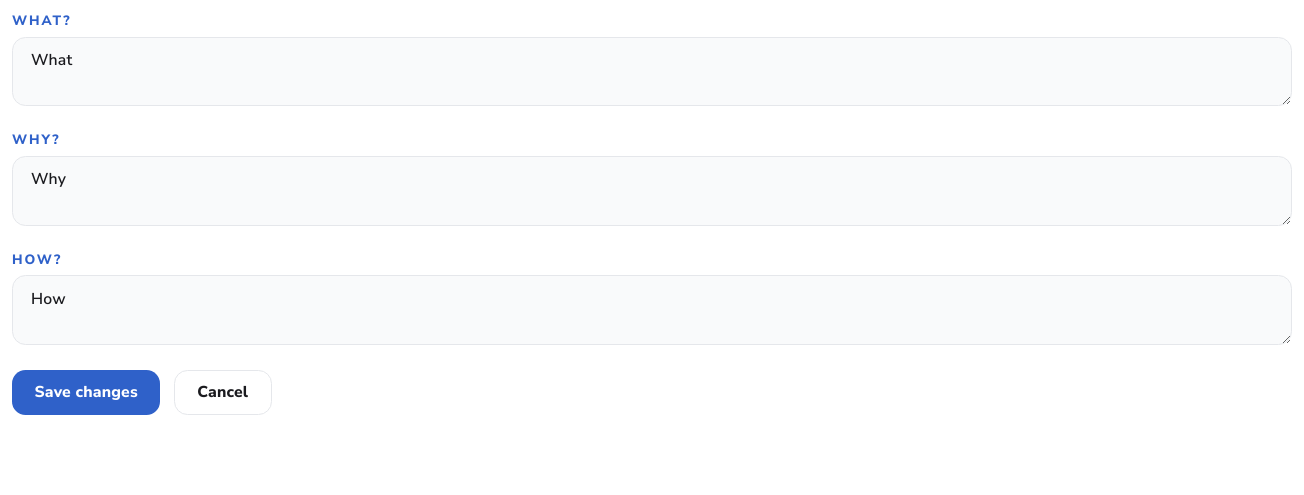
Scenario: NotebookEntryEditForm › shows error message when saving fails
Click the button "Save changes" at (86, 392), box [12,370,160,415]
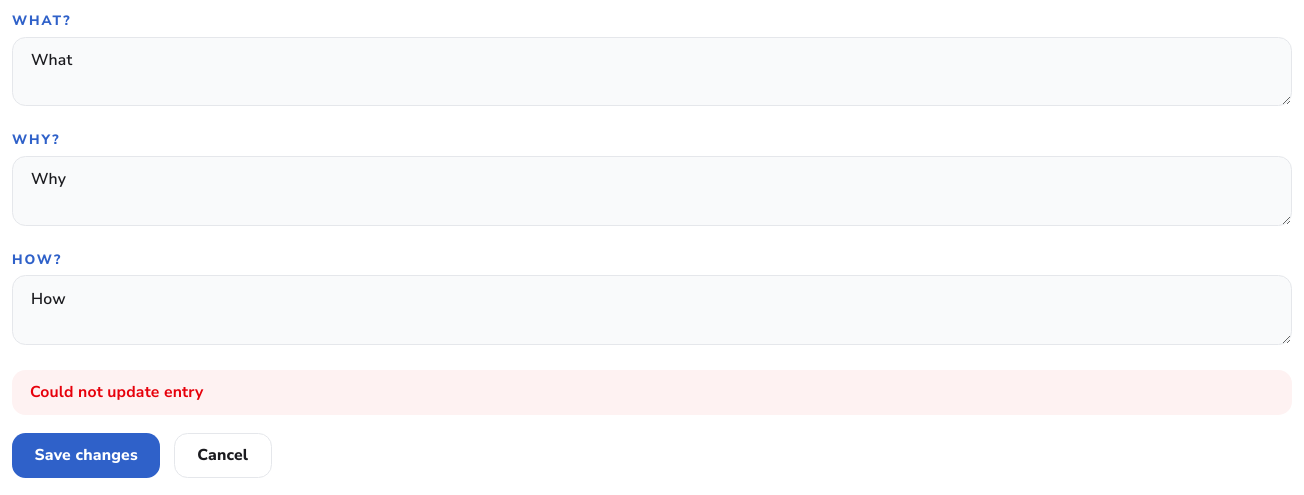
Expected: the button "Save changes" is enabled, [12,433,160,478]
Result: the text "Could not update entry" is shown at [12,370,1292,415]
